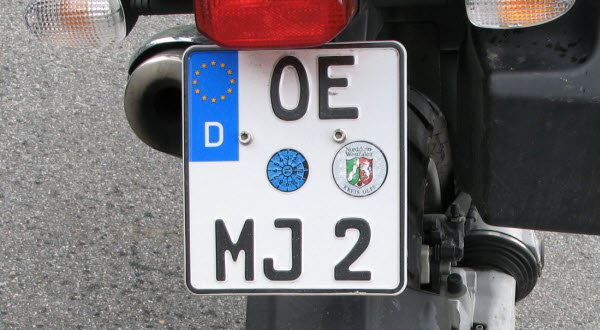license_plate: (184, 45, 406, 297)
